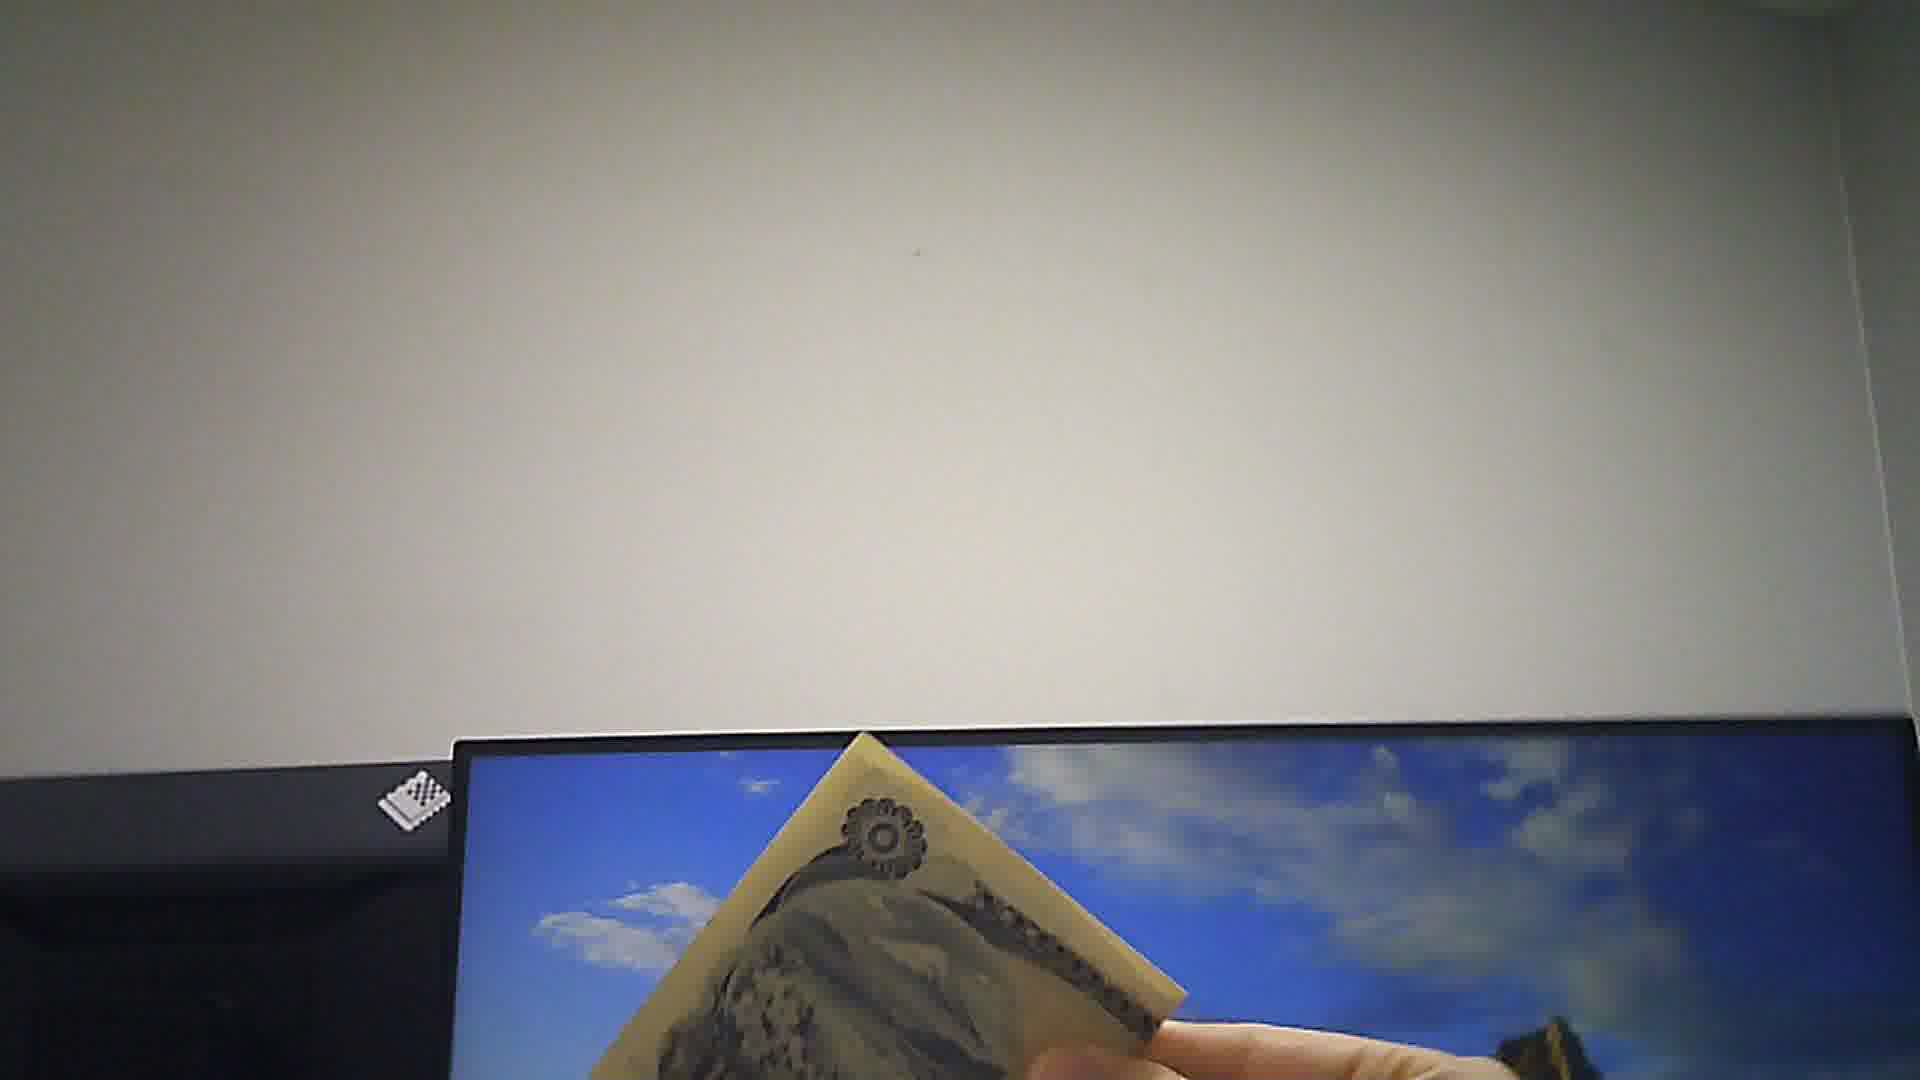1,000 Yen: (593, 738, 1174, 1079)
